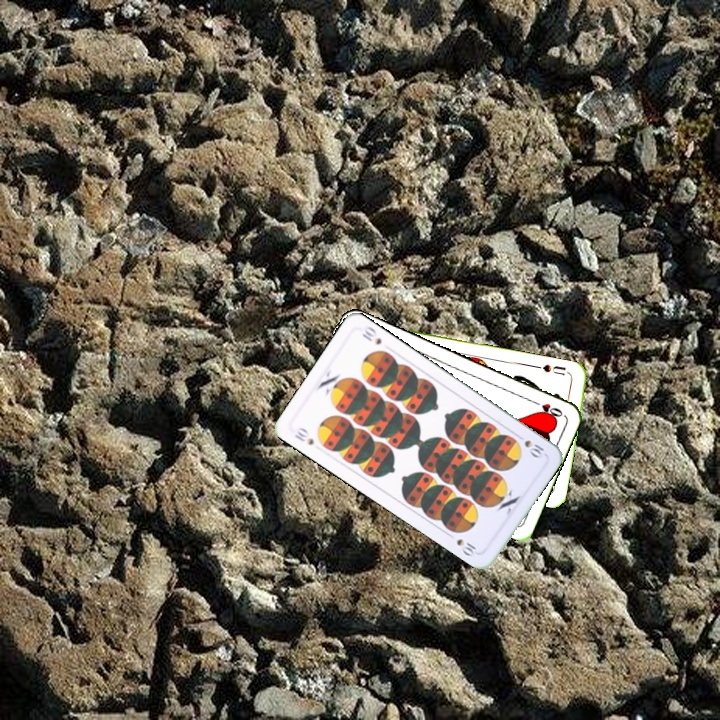HO: (527, 396, 565, 420)
S10: (512, 430, 548, 460), (290, 423, 316, 448)
SU: (539, 360, 568, 378)
